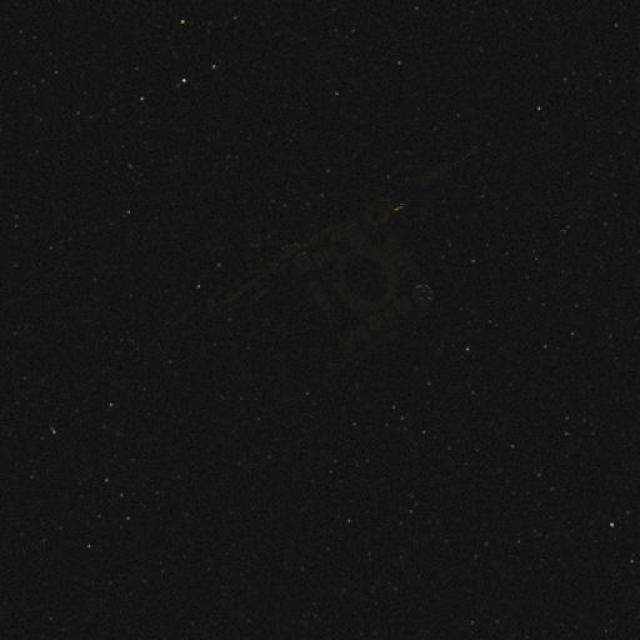proba_2: (218, 209, 506, 357)
